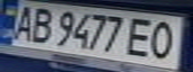4: (69, 10, 93, 49)
7: (103, 12, 130, 55), (87, 11, 109, 52)
9: (51, 8, 75, 47)
A: (6, 2, 39, 42)
B: (24, 5, 57, 44)
E: (124, 15, 160, 58)
O: (142, 18, 184, 62)
